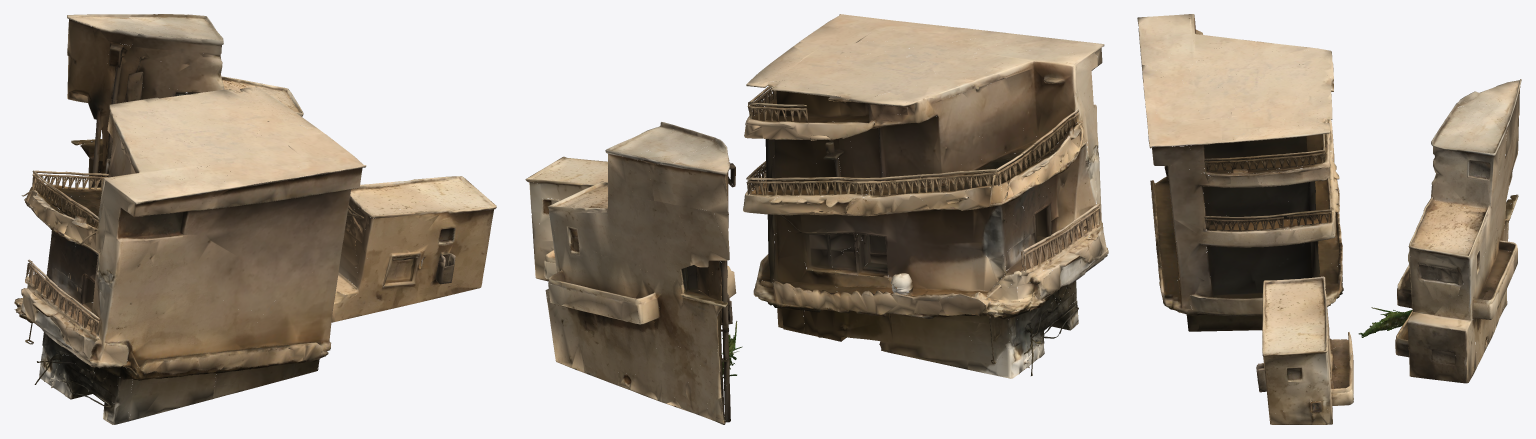
The model's file is hero_ruined.glb.
3 renders of one model, left to right at view 1: azimuth 30°, elevation 25°; view 2: azimuth 150°, elevation 25°; view 3: azimuth 270°, elevation 25°, orthographic. The views are drawn at different scales.
Visible parts, largest first — view 1: hero; view 2: hero; view 3: hero.
Part boxes in pixels (box(x1,y1,x2,y2)): hero: box(14, 14, 496, 424); hero: box(525, 14, 1108, 424); hero: box(1137, 14, 1521, 424).
Size of the model in its own units: 0.9812 by 0.4896 by 0.765.
Materials: 1 (1 with a texture image).
